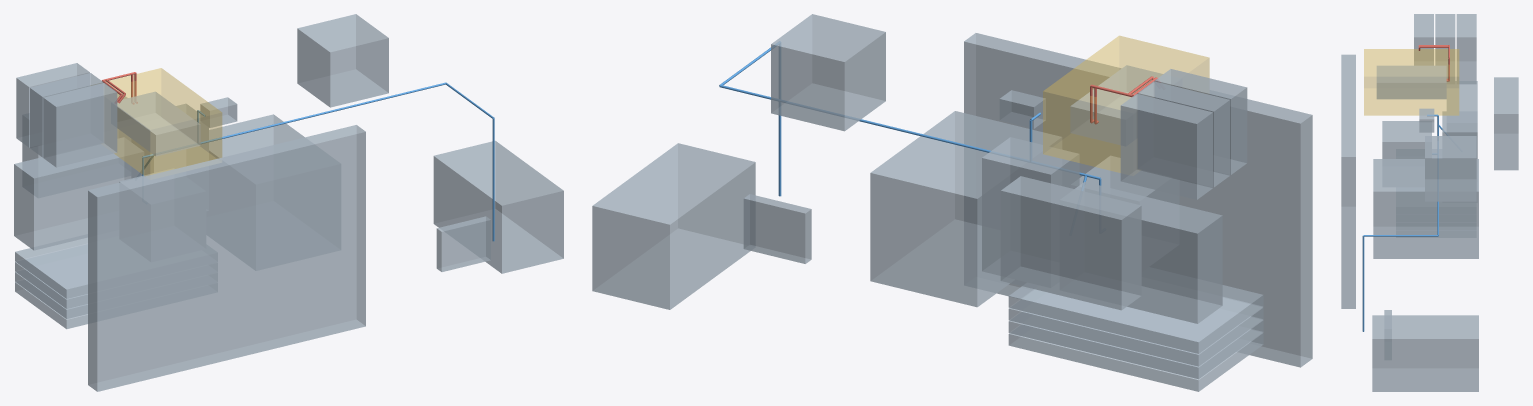
The model's file is layoutA_rotas_reserva.glb.
The picture shows the model from 3 angles, left to right: view 1: azimuth 30°, elevation 25°; view 2: azimuth 150°, elevation 25°; view 3: azimuth 270°, elevation 25°; orthographic projection. The views are drawn at different scales.
Parts seen in each view (by area): view 1: equipamento__17_cama_colchao, equipamento__0_geladeira_AC, acesso__18_reserva_inversor, equipamento__6_tanque_limpa, equipamento__1_cassete, equipamento__14_US5000_3, equipamento__5_inversor, equipamento__11_portatil_bolsa_4, equipamento__2_cooktop_armazenado, equipamento__15_lava_seca, equipamento__12_US5000_1, equipamento__13_US5000_2 (+6 smaller); view 2: equipamento__17_cama_colchao, equipamento__0_geladeira_AC, equipamento__15_lava_seca, equipamento__7_tanque_cinza, equipamento__1_cassete, acesso__18_reserva_inversor, equipamento__6_tanque_limpa, equipamento__12_US5000_1, equipamento__11_portatil_bolsa_4, equipamento__16_hvac, equipamento__2_cooktop_armazenado, equipamento__8_portatil_bolsa_1 (+8 smaller); view 3: equipamento__15_lava_seca, equipamento__0_geladeira_AC, acesso__18_reserva_inversor, equipamento__17_cama_colchao, equipamento__1_cassete, equipamento__5_inversor, equipamento__7_tanque_cinza, equipamento__3_boiler, equipamento__12_US5000_1, equipamento__13_US5000_2, equipamento__14_US5000_3, equipamento__16_hvac (+3 smaller).
Boxes of the visible parts, <box> form: equipamento__17_cama_colchao: <box>88,125,365,391</box>; equipamento__0_geladeira_AC: <box>433,140,563,273</box>; acesso__18_reserva_inversor: <box>107,68,221,176</box>; equipamento__6_tanque_limpa: <box>14,137,144,250</box>; equipamento__1_cassete: <box>297,14,388,107</box>; equipamento__14_US5000_3: <box>43,83,117,167</box>; equipamento__5_inversor: <box>117,91,200,156</box>; equipamento__11_portatil_bolsa_4: <box>15,237,87,298</box>; equipamento__2_cooktop_armazenado: <box>436,216,490,271</box>; equipamento__15_lava_seca: <box>209,114,304,160</box>; equipamento__12_US5000_1: <box>16,63,89,147</box>; equipamento__13_US5000_2: <box>30,73,103,157</box>; equipamento__17_cama_colchao: <box>964,33,1312,367</box>; equipamento__0_geladeira_AC: <box>592,143,755,309</box>; equipamento__15_lava_seca: <box>870,111,1062,307</box>; equipamento__7_tanque_cinza: <box>1000,176,1141,310</box>; equipamento__1_cassete: <box>771,14,885,131</box>; acesso__18_reserva_inversor: <box>1043,36,1209,172</box>; equipamento__6_tanque_limpa: <box>1074,181,1222,323</box>; equipamento__12_US5000_1: <box>1120,94,1212,199</box>; equipamento__11_portatil_bolsa_4: <box>1008,285,1263,353</box>; equipamento__16_hvac: <box>982,137,1079,275</box>; equipamento__2_cooktop_armazenado: <box>743,194,811,263</box>; equipamento__8_portatil_bolsa_1: <box>1008,332,1263,391</box>; equipamento__15_lava_seca: <box>1373,159,1478,258</box>; equipamento__0_geladeira_AC: <box>1372,315,1478,391</box>; acesso__18_reserva_inversor: <box>1364,49,1458,115</box>; equipamento__17_cama_colchao: <box>1341,54,1355,308</box>; equipamento__1_cassete: <box>1425,136,1476,201</box>; equipamento__5_inversor: <box>1376,65,1446,99</box>; equipamento__7_tanque_cinza: <box>1494,77,1518,170</box>; equipamento__3_boiler: <box>1382,121,1431,158</box>; equipamento__12_US5000_1: <box>1456,14,1476,84</box>; equipamento__13_US5000_2: <box>1435,14,1455,84</box>; equipamento__14_US5000_3: <box>1414,14,1433,65</box>; equipamento__16_hvac: <box>1442,111,1477,158</box>.
Size of the model in its own units: 3.53 by 1.73 by 1.43.
